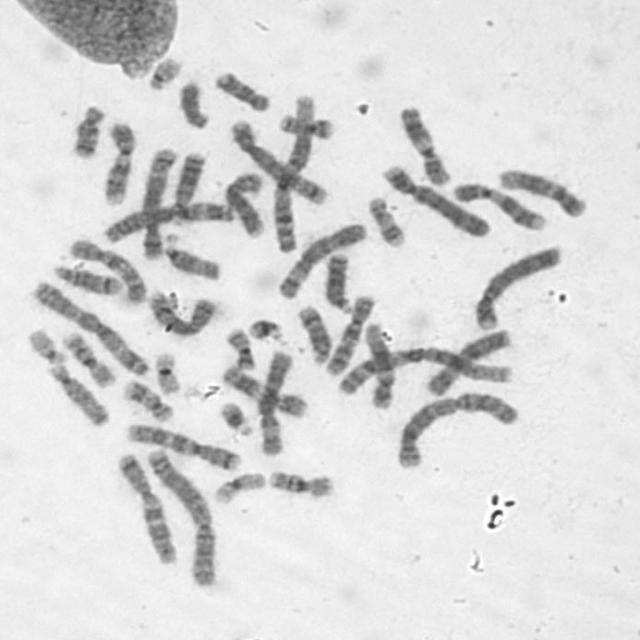A1: (327, 338, 513, 397), (268, 90, 318, 254)
A2: (139, 443, 220, 589), (390, 385, 522, 471)
A3: (25, 274, 150, 378), (96, 195, 237, 245)
B4: (376, 158, 493, 239), (467, 238, 565, 332)
B5: (226, 113, 332, 207), (136, 140, 179, 262)
C10: (63, 232, 150, 306), (319, 288, 377, 378)
C11: (214, 359, 310, 419), (393, 99, 452, 188)
C12: (492, 162, 589, 218), (358, 317, 397, 411)
C6: (270, 217, 370, 301), (251, 345, 295, 457)
C7: (109, 445, 181, 566), (119, 417, 243, 471)
C8: (142, 284, 219, 338), (218, 167, 268, 239)
C9: (446, 176, 549, 232), (97, 116, 138, 207)
D13: (166, 145, 208, 227), (318, 247, 356, 315)
D14: (48, 257, 124, 296), (291, 299, 333, 367)
D15: (42, 357, 112, 428), (157, 229, 223, 282)
E16: (55, 326, 118, 388), (262, 463, 336, 499)
E17: (116, 374, 176, 424), (362, 190, 408, 249)
E18: (208, 64, 272, 114), (67, 98, 107, 160)
F19: (208, 466, 268, 505), (149, 346, 183, 396)
F20: (274, 108, 336, 140), (220, 322, 257, 372)
G21: (213, 395, 256, 437), (241, 312, 286, 343)
G22: (21, 323, 70, 365), (141, 50, 184, 92)
X: (420, 324, 516, 398)
Y: (172, 74, 211, 130)
